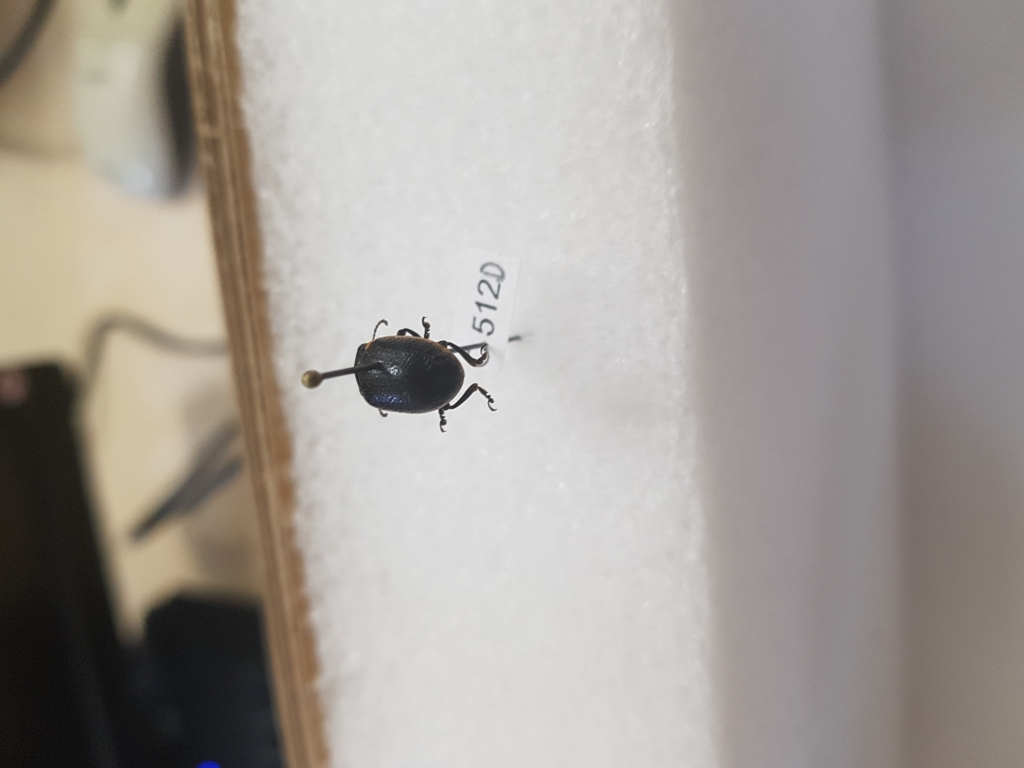Chrysolina_gypsophila: (345, 309, 502, 438)
